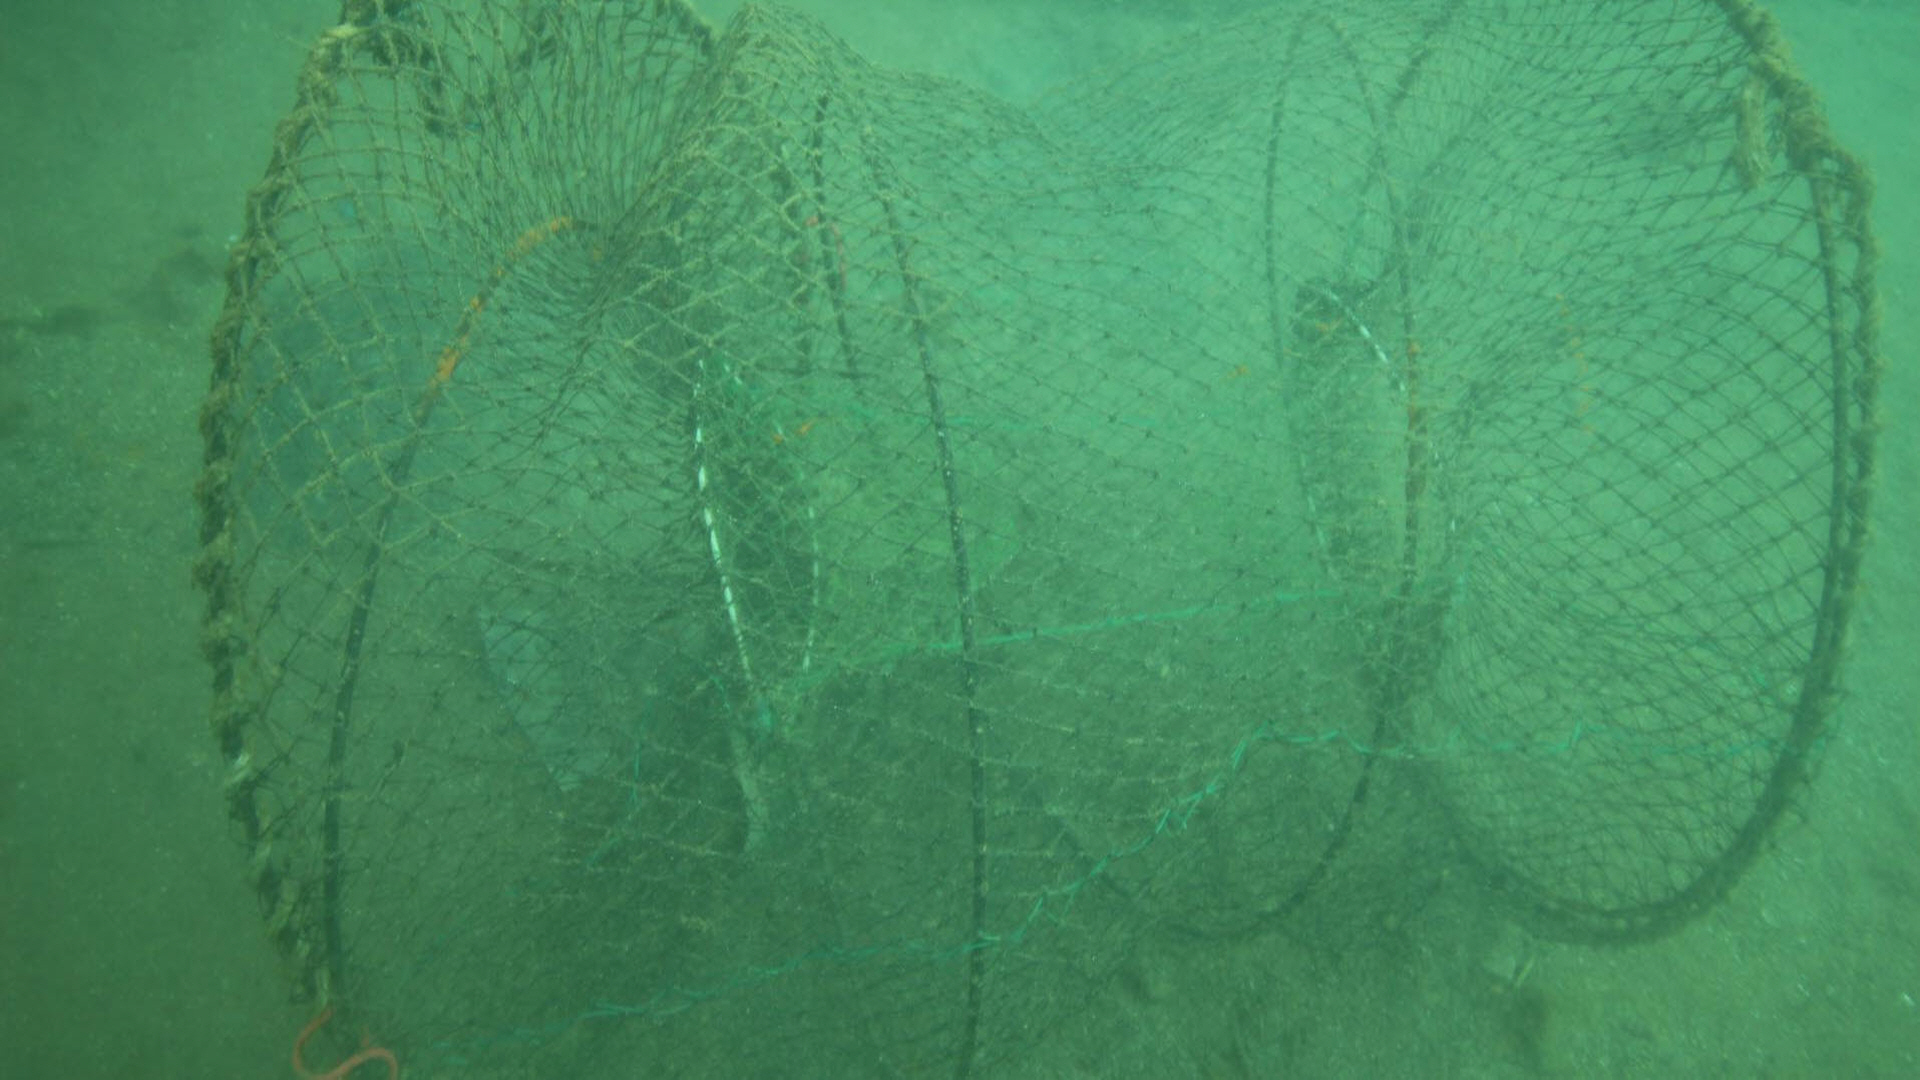spring fish trap: (185, 1, 1884, 1077)
